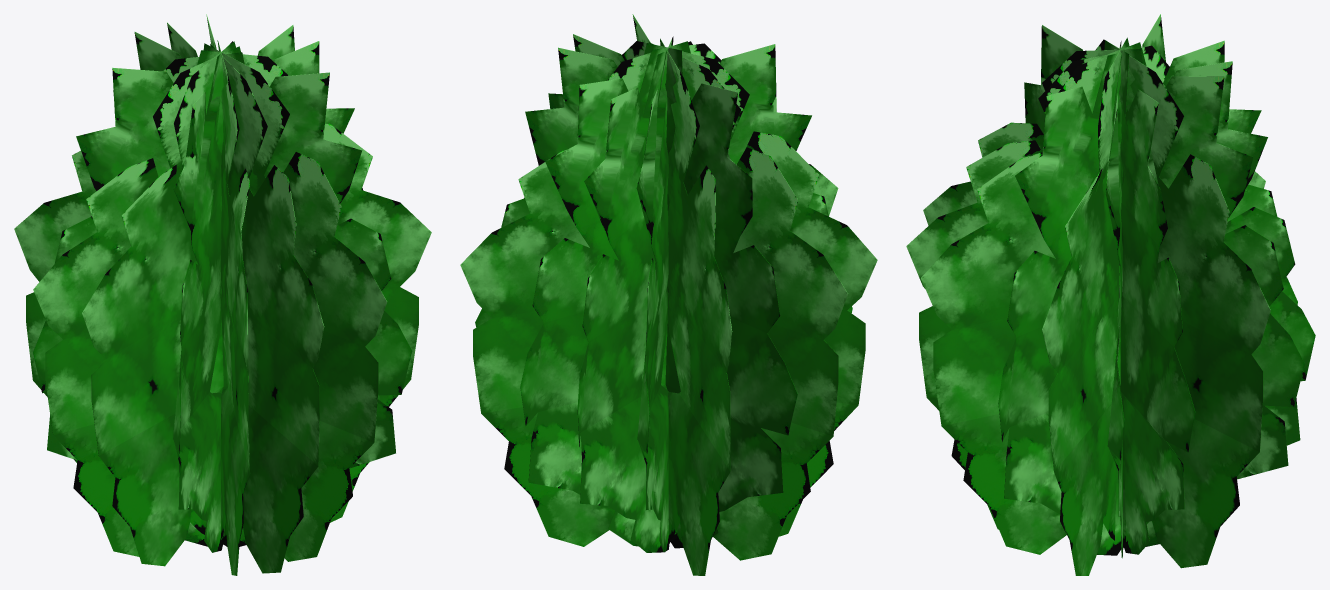
Rendered from bush.fbx.
3 views of the same model, side by side, from view 1: azimuth 30°, elevation 25°; view 2: azimuth 150°, elevation 25°; view 3: azimuth 270°, elevation 25° (orthographic).
Visible parts, largest first — view 1: d2bc2ccb-dd17-4b76-b26a-1273e3ee6d55; view 2: d2bc2ccb-dd17-4b76-b26a-1273e3ee6d55; view 3: d2bc2ccb-dd17-4b76-b26a-1273e3ee6d55.
Boxes of the visible parts, x1,y1,x2,y2 form: d2bc2ccb-dd17-4b76-b26a-1273e3ee6d55: (14,14,431,575); d2bc2ccb-dd17-4b76-b26a-1273e3ee6d55: (460,14,877,575); d2bc2ccb-dd17-4b76-b26a-1273e3ee6d55: (906,14,1315,575).
Bounding box in the file's own units: 0.6508 × 0.8778 × 0.6431.
